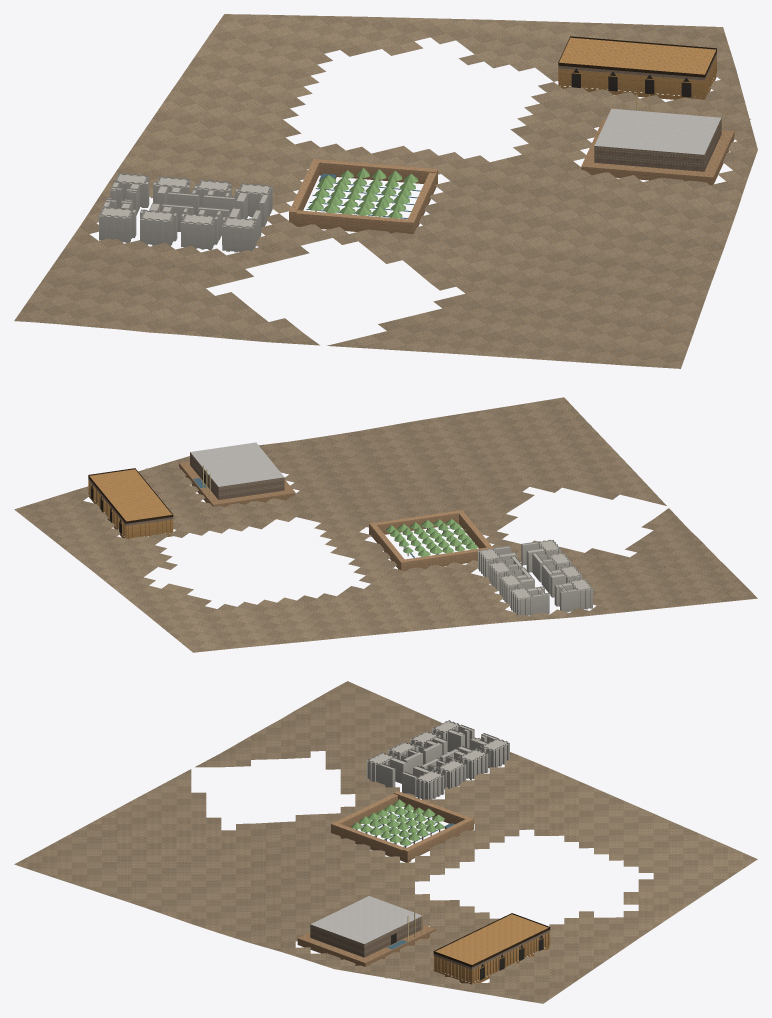
File: uruk_eanna.glb
The picture shows the model from 3 angles, top to bottom: view 1: azimuth 30°, elevation 25°; view 2: azimuth 150°, elevation 25°; view 3: azimuth 270°, elevation 25°; orthographic projection. The views are drawn at different scales.
Visible parts, largest first — view 1: uruk_eanna; view 2: uruk_eanna; view 3: uruk_eanna.
Part boxes in pixels (left/top/right/bottom): uruk_eanna: left=14, top=14, right=757, bottom=368; uruk_eanna: left=14, top=397, right=757, bottom=652; uruk_eanna: left=14, top=681, right=757, bottom=1003.
Size of the model in its own units: 257 by 11.96 by 250.
Materials: 11 (6 with a texture image).
